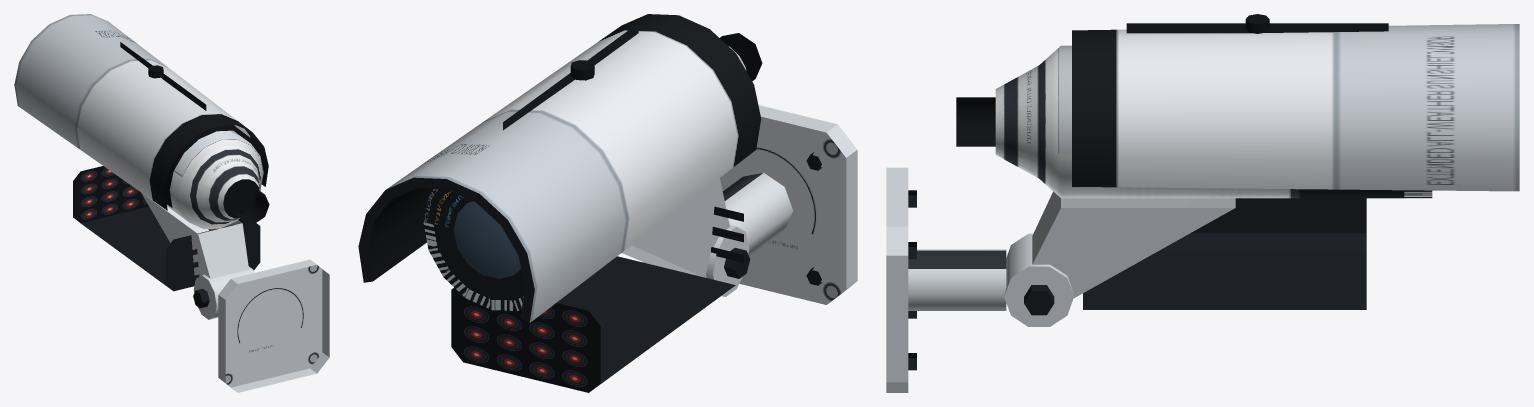
The model's file is SEC_Camera_LPR.fbx.
The picture shows the model from 3 angles, left to right: view 1: azimuth 30°, elevation 25°; view 2: azimuth 150°, elevation 25°; view 3: azimuth 270°, elevation 25°; orthographic projection. The views are drawn at different scales.
Parts seen in each view (by area): view 1: Camera_Housing, Mount_Plate, IR_Illuminator; view 2: Camera_Housing, Mount_Plate, IR_Illuminator, Lens_Glass; view 3: Camera_Housing, IR_Illuminator, Mount_Plate.
Boxes of the visible parts, x1,y1,x2,y2 form: Camera_Housing: [14, 14, 269, 281]; Mount_Plate: [193, 259, 329, 392]; IR_Illuminator: [73, 166, 260, 291]; Camera_Housing: [358, 14, 762, 322]; Mount_Plate: [643, 105, 857, 304]; IR_Illuminator: [451, 206, 743, 392]; Lens_Glass: [453, 201, 520, 278]; Camera_Housing: [956, 14, 1519, 297]; IR_Illuminator: [1083, 198, 1366, 309]; Mount_Plate: [886, 167, 1073, 392].
Bounding box in the file's own units: 8.99 × 17.4 × 29.
3 materials, 2 textured.
